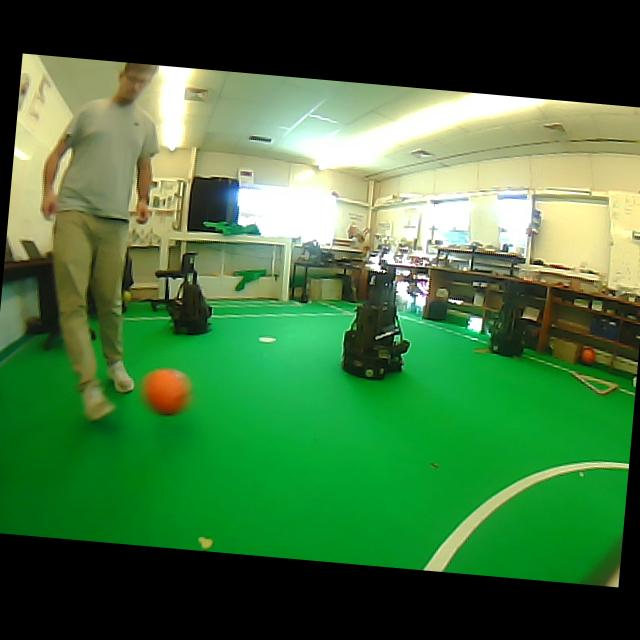ball: (142, 368, 190, 414), (580, 346, 596, 364), (122, 290, 132, 301)
goal: (280, 238, 292, 300)
robot: (341, 270, 408, 378), (168, 252, 210, 334), (490, 281, 524, 356)
